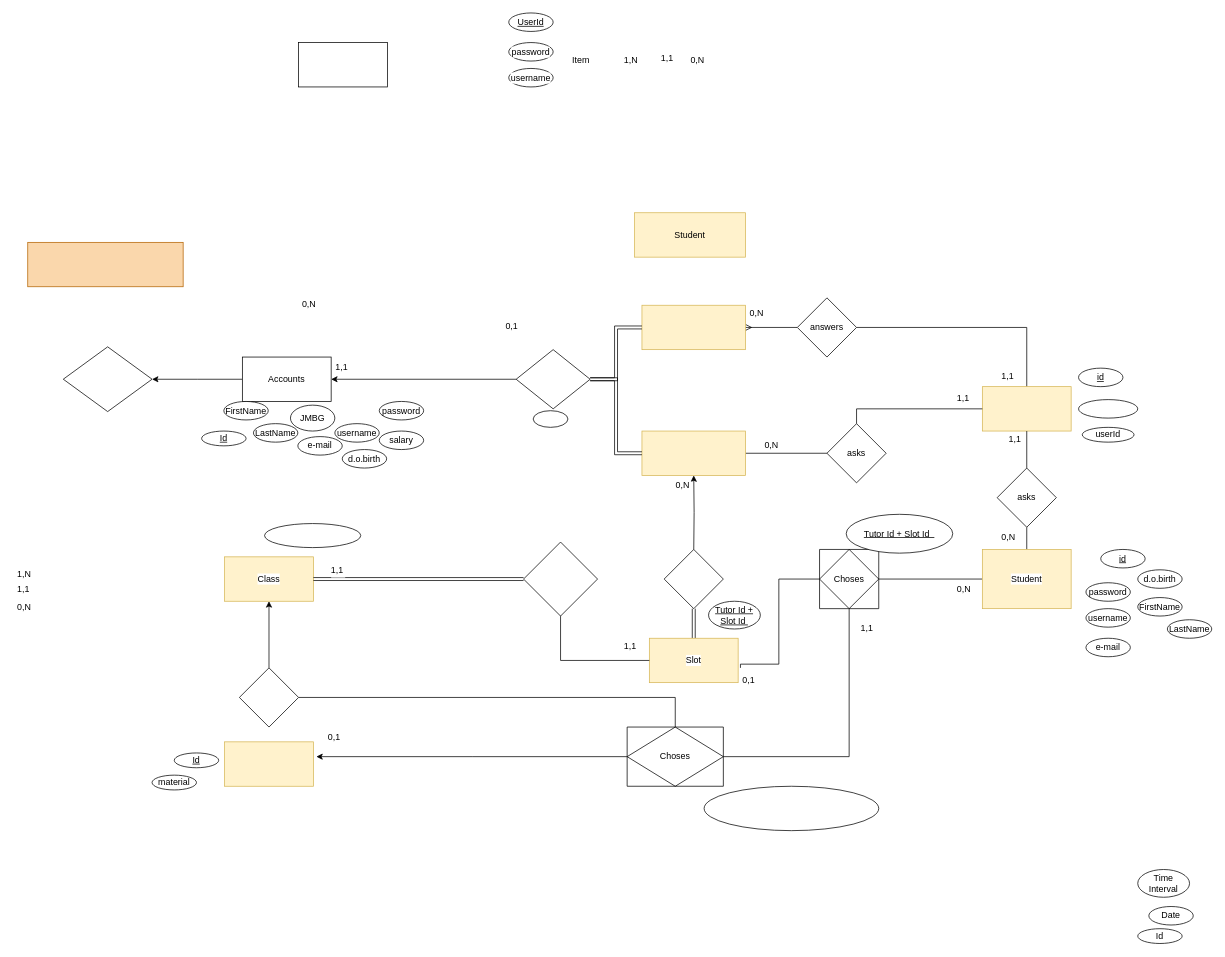
Some shapes in this 1225 by 957 pixel diagram are drawn without their labels. The shapes that lost their labels are listed below. From the top down, each one's centre as x and y in pixels, then its label:
At (342,64): "Payment".
At (105,264): "Online Language School".
At (693,327): "Administration".
At (107,379): "has".
At (552,379): "Isa".
At (550,418): "Job".
At (1026,408): "Questions".
At (1108,408): "content".
At (693,452): "Tutor".
At (312,535): "Tutor Id + Slot Id + Class Id".
At (560,578): "teaches".
At (693,579): "opens".
At (269,697): "Has a".
At (268,763): "Lesson".
At (791,808): "Tutor ID + Slot ID + Lesson ID".
